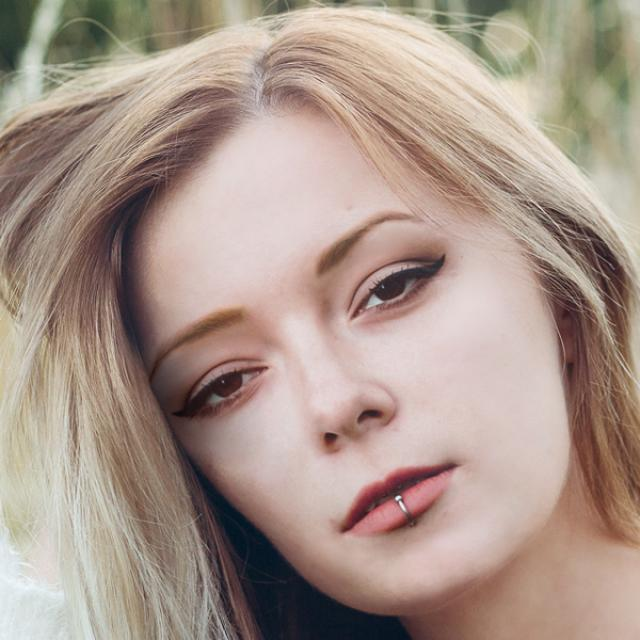face: (58, 95, 606, 599)
